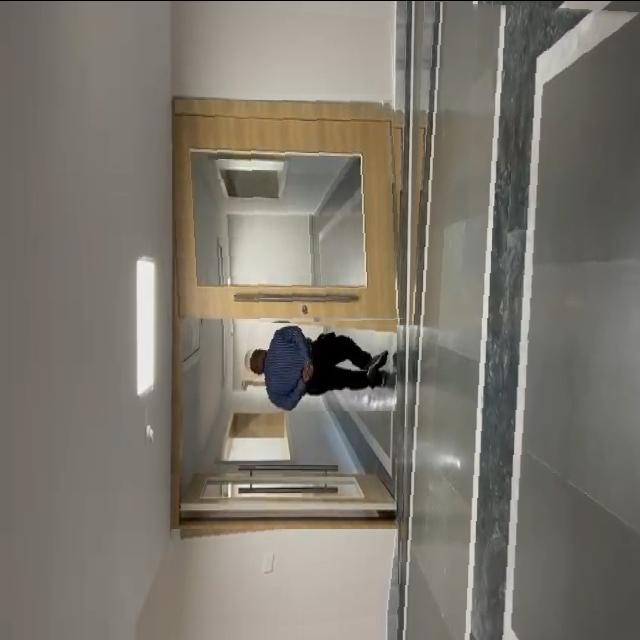door: (175, 99, 404, 325)
floor: (396, 0, 640, 640)
moving_object: (240, 312, 397, 410)
wall: (160, 528, 398, 640), (174, 0, 395, 93)
